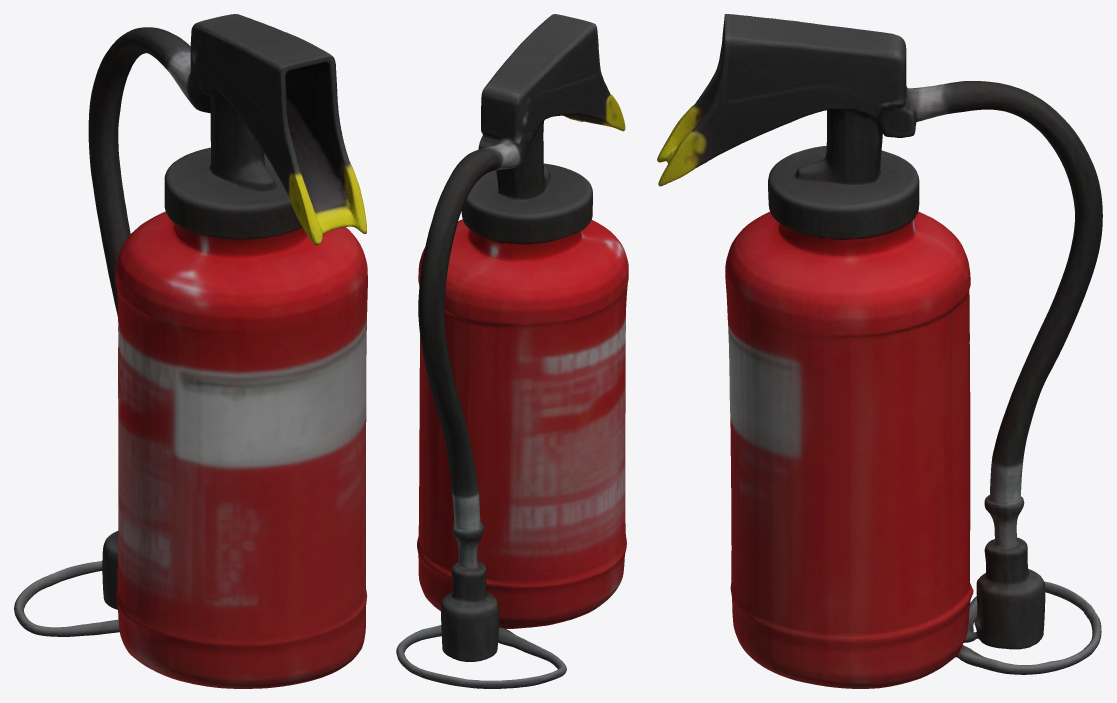
File: ours.glb
3 renders of one model, left to right at view 1: azimuth 30°, elevation 25°; view 2: azimuth 150°, elevation 25°; view 3: azimuth 270°, elevation 25°, orthographic. The views are drawn at different scales.
Visible parts, largest first — view 1: world; view 2: world; view 3: world.
Boxes of the visible parts, x1=… form: world: x1=14, y1=14, x2=367, y2=688; world: x1=396, y1=14, x2=628, y2=688; world: x1=657, y1=14, x2=1102, y2=688.
Bounding box in the file's own units: 0.3936 × 1 × 0.6428.
